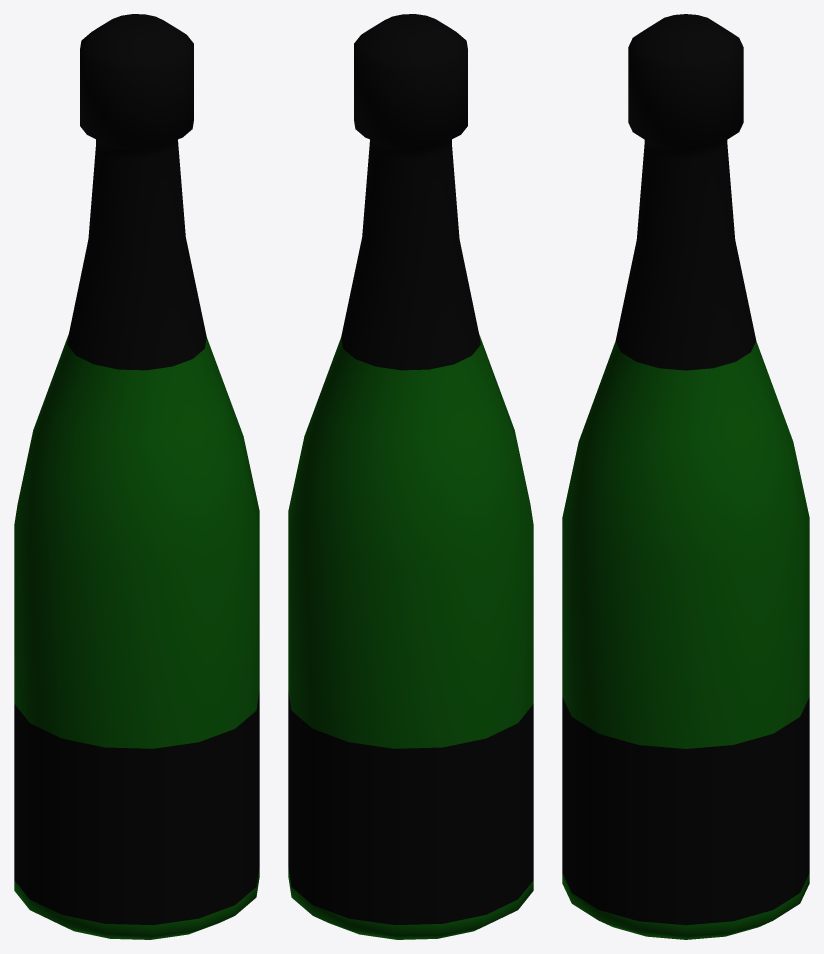
File: Bottle 3.fbx
3 renders of one model, left to right at view 1: azimuth 30°, elevation 25°; view 2: azimuth 150°, elevation 25°; view 3: azimuth 270°, elevation 25°, orthographic.
Parts seen in each view (by area): view 1: Bottle 3; view 2: Bottle 3; view 3: Bottle 3.
Boxes of the visible parts, x1=… form: Bottle 3: x1=14, y1=14, x2=259, y2=939; Bottle 3: x1=288, y1=14, x2=533, y2=939; Bottle 3: x1=562, y1=14, x2=809, y2=939.
Size of the model in its own units: 67.29 by 261 by 67.29.
